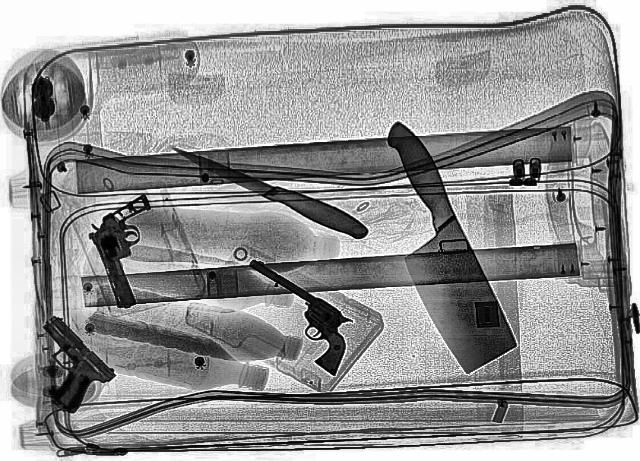Gun: (235, 248, 379, 376), (17, 310, 123, 416), (70, 191, 162, 311)
Knife: (334, 116, 538, 380), (159, 135, 379, 246)
